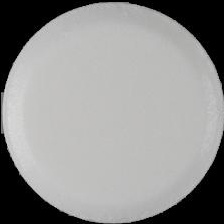51660-526: (0, 0, 224, 224)
